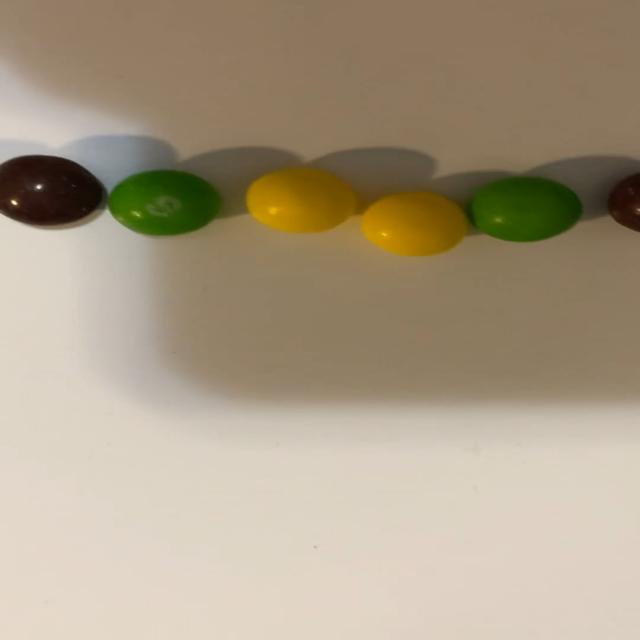smartie: (107, 169, 220, 235), (470, 177, 583, 242), (0, 155, 103, 225), (247, 167, 356, 232), (361, 191, 468, 256)
